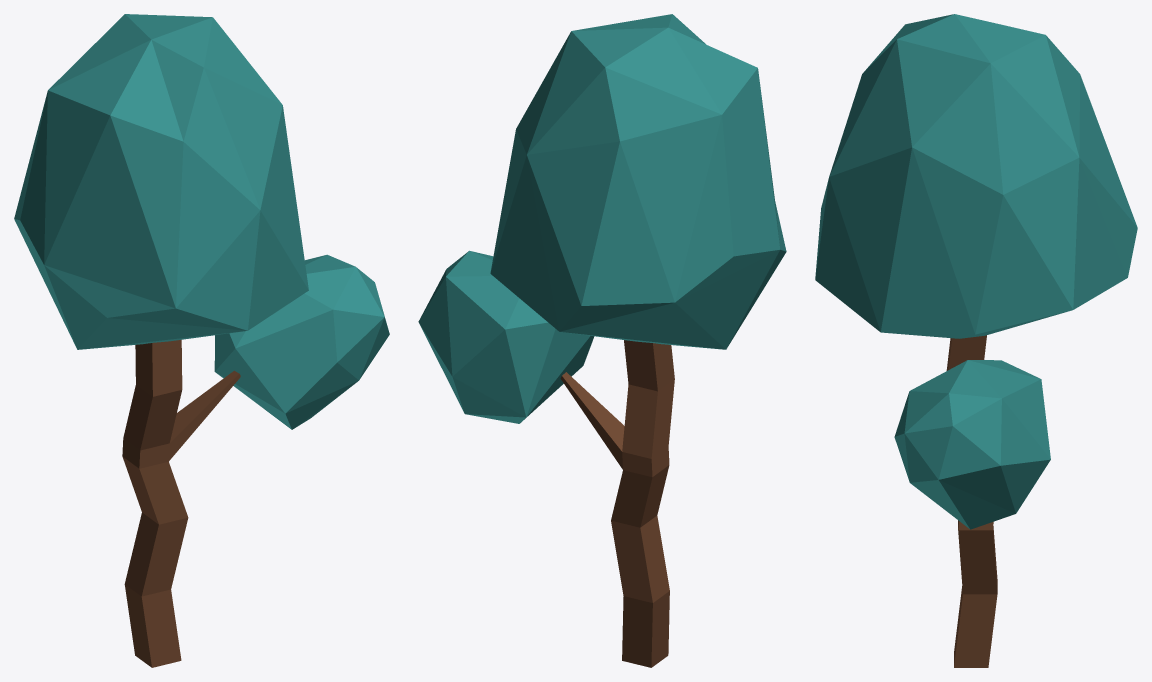
The model's file is Tree_41_Blue.fbx.
3 renders of one model, left to right at view 1: azimuth 30°, elevation 25°; view 2: azimuth 150°, elevation 25°; view 3: azimuth 270°, elevation 25°, orthographic.
Visible parts, largest first — view 1: Tree_41_Blue_Part_1, Tree_41_Blue_Part_2; view 2: Tree_41_Blue_Part_1, Tree_41_Blue_Part_2; view 3: Tree_41_Blue_Part_1, Tree_41_Blue_Part_2.
Boxes of the visible parts, x1,y1,x2,y2 form: Tree_41_Blue_Part_1: (14,14,389,429); Tree_41_Blue_Part_2: (122,339,240,667); Tree_41_Blue_Part_1: (418,14,786,423); Tree_41_Blue_Part_2: (560,340,674,667); Tree_41_Blue_Part_1: (815,14,1137,529); Tree_41_Blue_Part_2: (946,335,997,667).
Bounding box in the file's own units: 450 × 794 × 363.
